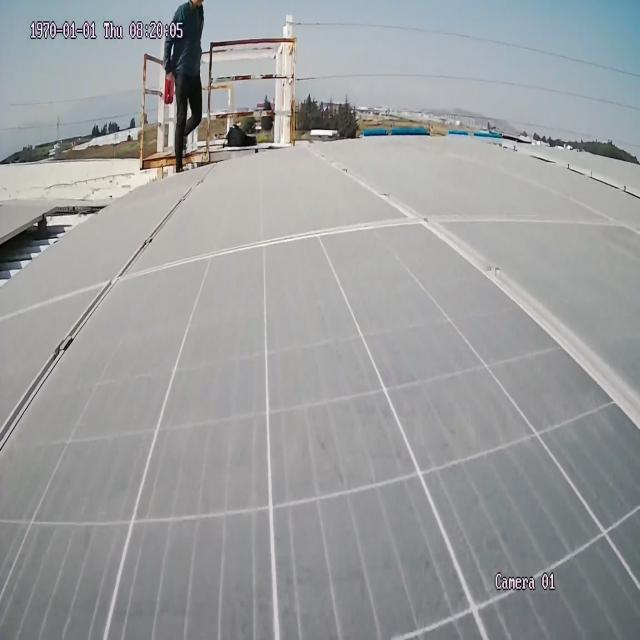interior panel: (308, 140, 640, 461), (0, 162, 216, 483)
outher panel: (0, 196, 117, 298)
